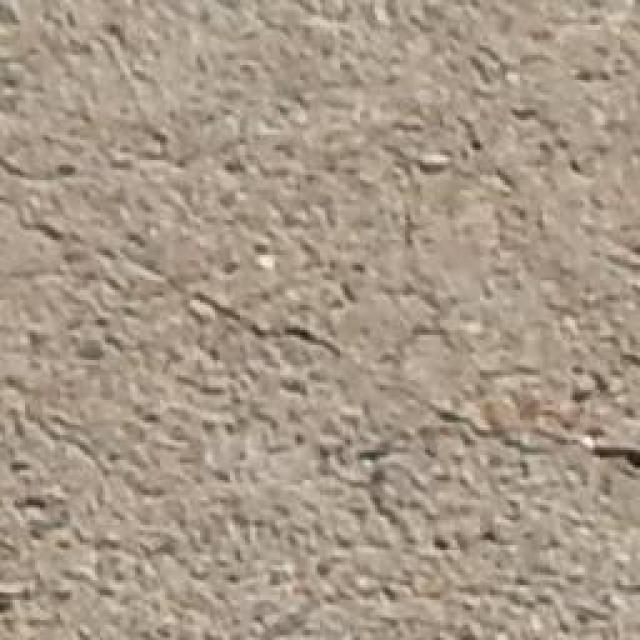concrete-crack: (0, 148, 640, 486)
